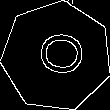O_W: (28, 32, 85, 81)
